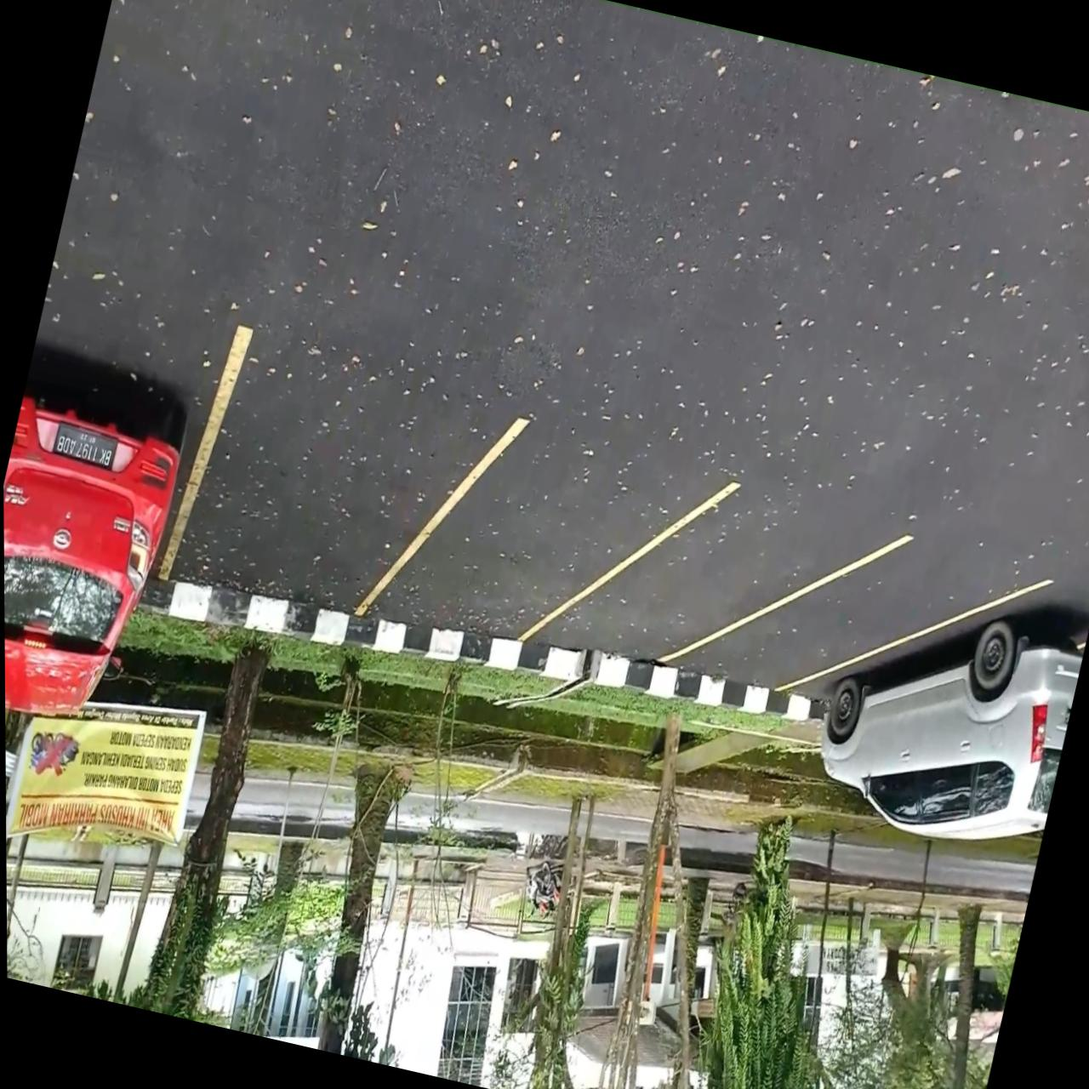cars: (4, 271, 254, 579), (774, 578, 1085, 723)
empty: (159, 326, 530, 616), (353, 417, 740, 641), (517, 481, 915, 663), (656, 533, 1052, 692)
